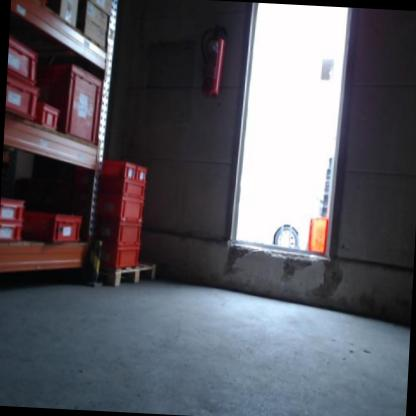pallet: (97, 258, 159, 288)
small_load_carrier: (38, 58, 105, 149), (21, 208, 83, 244), (5, 71, 45, 124), (8, 34, 41, 84), (93, 243, 140, 276), (94, 194, 145, 221), (94, 218, 142, 243), (97, 176, 145, 196), (0, 195, 30, 224), (99, 156, 135, 180), (37, 100, 59, 132), (0, 222, 22, 244), (135, 164, 149, 182)
